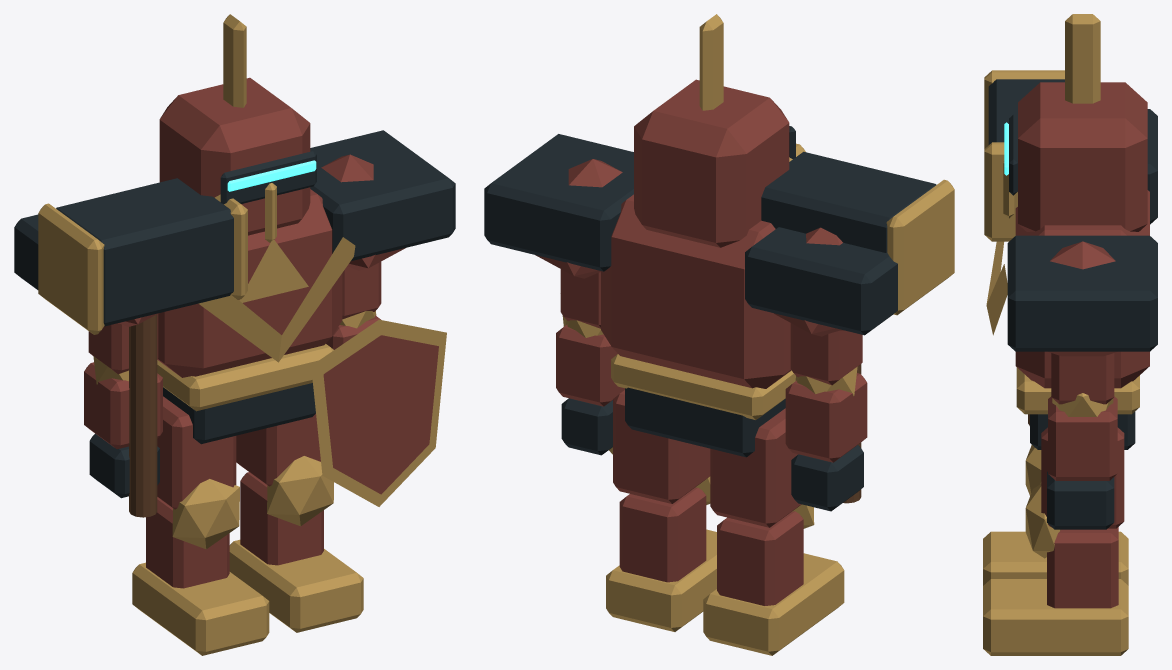
File: field-brute.glb
3 views of the same model, side by side, from view 1: azimuth 30°, elevation 25°; view 2: azimuth 150°, elevation 25°; view 3: azimuth 270°, elevation 25° (orthographic). The views are drawn at different scales.
Parts seen in each view (by area): view 1: Heavy hammer head, SentinelShield face, SentinelHelmet, SentinelBreastplate, Heavy shoulder plate.001, SentinelBoot, SentinelBoot.001, Hammer brass cap, Heavy hammer grip, SentinelShield, SentinelBelt, SentinelThigh (+19 smaller); view 2: SentinelBreastplate, SentinelHelmet, Heavy shoulder plate.001, Heavy shoulder plate, Heavy hammer head, SentinelBoot, SentinelShin.001, SentinelShin, SentinelThigh, Hammer brass cap, SentinelThigh.001, SentinelWaist (+12 smaller); view 3: SentinelHelmet, Heavy shoulder plate.001, SentinelBoot.001, SentinelShin.001, SentinelForearm.001, SentinelBreastplate, SentinelFist.001, SentinelBoot, SentinelCrown, SentinelUpper arm.001, Hammer brass cap.001, Heavy hammer head (+12 smaller).
Boxes of the visible parts, bbox=[...] form: Heavy hammer head: bbox=[56, 178, 233, 326]; SentinelShield face: bbox=[323, 335, 438, 494]; SentinelHelmet: bbox=[159, 77, 310, 235]; SentinelBreastplate: bbox=[157, 189, 342, 377]; Heavy shoulder plate.001: bbox=[310, 130, 455, 260]; SentinelBoot: bbox=[132, 562, 269, 655]; SentinelBoot.001: bbox=[229, 539, 363, 632]; Hammer brass cap: bbox=[38, 203, 104, 334]; Heavy hammer grip: bbox=[129, 314, 157, 517]; SentinelShield: bbox=[311, 319, 446, 506]; SentinelBelt: bbox=[157, 344, 333, 411]; SentinelThigh: bbox=[157, 396, 236, 509]; SentinelBreastplate: bbox=[601, 194, 791, 388]; SentinelHelmet: bbox=[634, 79, 789, 247]; Heavy shoulder plate.001: bbox=[484, 134, 633, 271]; Heavy shoulder plate: bbox=[745, 227, 897, 335]; Heavy hammer head: bbox=[761, 151, 936, 252]; SentinelBoot: bbox=[703, 553, 844, 655]; SentinelShin.001: bbox=[619, 487, 706, 582]; SentinelShin: bbox=[717, 511, 803, 605]; SentinelThigh: bbox=[710, 408, 801, 527]; Hammer brass cap: bbox=[886, 179, 954, 315]; SentinelThigh.001: bbox=[613, 390, 710, 503]; SentinelWaist: bbox=[625, 387, 785, 457]; SentinelHelmet: bbox=[1018, 82, 1147, 231]; Heavy shoulder plate.001: bbox=[1007, 235, 1157, 351]; SentinelBoot.001: bbox=[983, 579, 1128, 655]; SentinelShin.001: bbox=[1047, 527, 1118, 608]; SentinelForearm.001: bbox=[1048, 396, 1117, 480]; SentinelBreastplate: bbox=[1015, 190, 1149, 388]; SentinelFist.001: bbox=[1047, 471, 1114, 529]; SentinelBoot: bbox=[983, 531, 1128, 585]; SentinelCrown: bbox=[1065, 14, 1100, 103]; SentinelUpper arm.001: bbox=[1051, 353, 1114, 404]; Hammer brass cap.001: bbox=[984, 142, 1017, 241]; Heavy hammer head: bbox=[988, 79, 1064, 144].
Size of the model in its own units: 2.09 by 3.09 by 0.8112.
